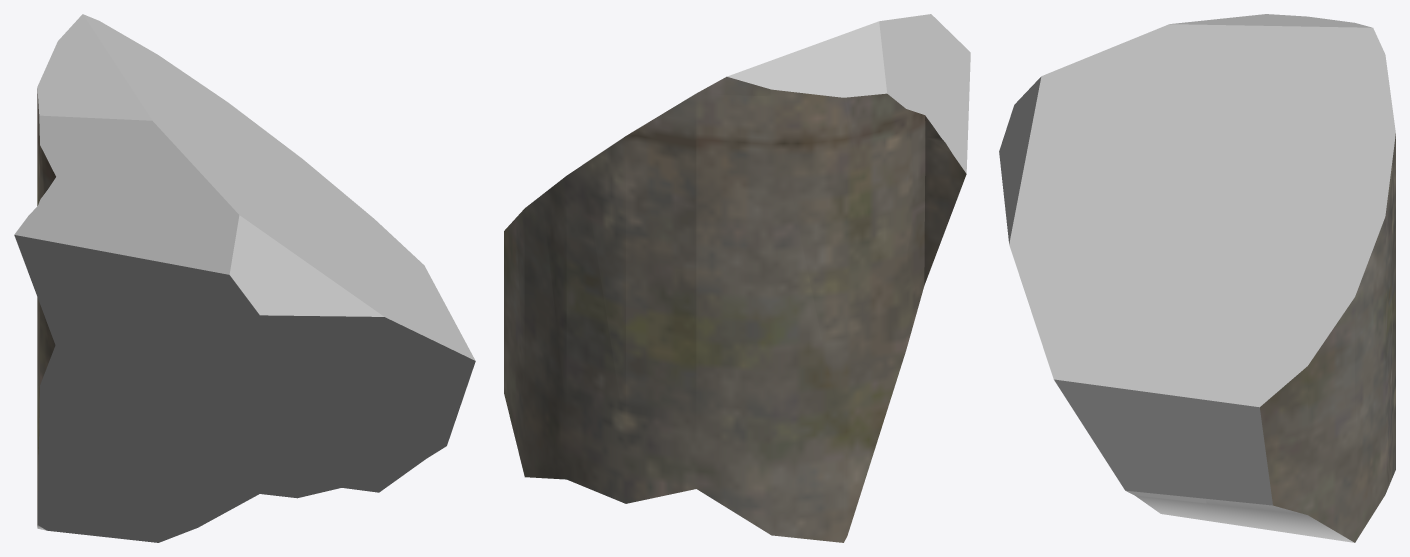
Rendered from ColumnDamage08_11.fbx.
The picture shows the model from 3 angles, left to right: view 1: azimuth 30°, elevation 25°; view 2: azimuth 150°, elevation 25°; view 3: azimuth 270°, elevation 25°; orthographic projection. The views are drawn at different scales.
Parts seen in each view (by area): view 1: ColumnDamage08_DM.011; view 2: ColumnDamage08_DM.011; view 3: ColumnDamage08_DM.011.
Boxes of the visible parts, box(x1,y1,x2,y2) form: ColumnDamage08_DM.011: box(14, 14, 475, 542); ColumnDamage08_DM.011: box(504, 14, 970, 542); ColumnDamage08_DM.011: box(999, 14, 1395, 542).
Size of the model in its own units: 133 by 137 by 114.
